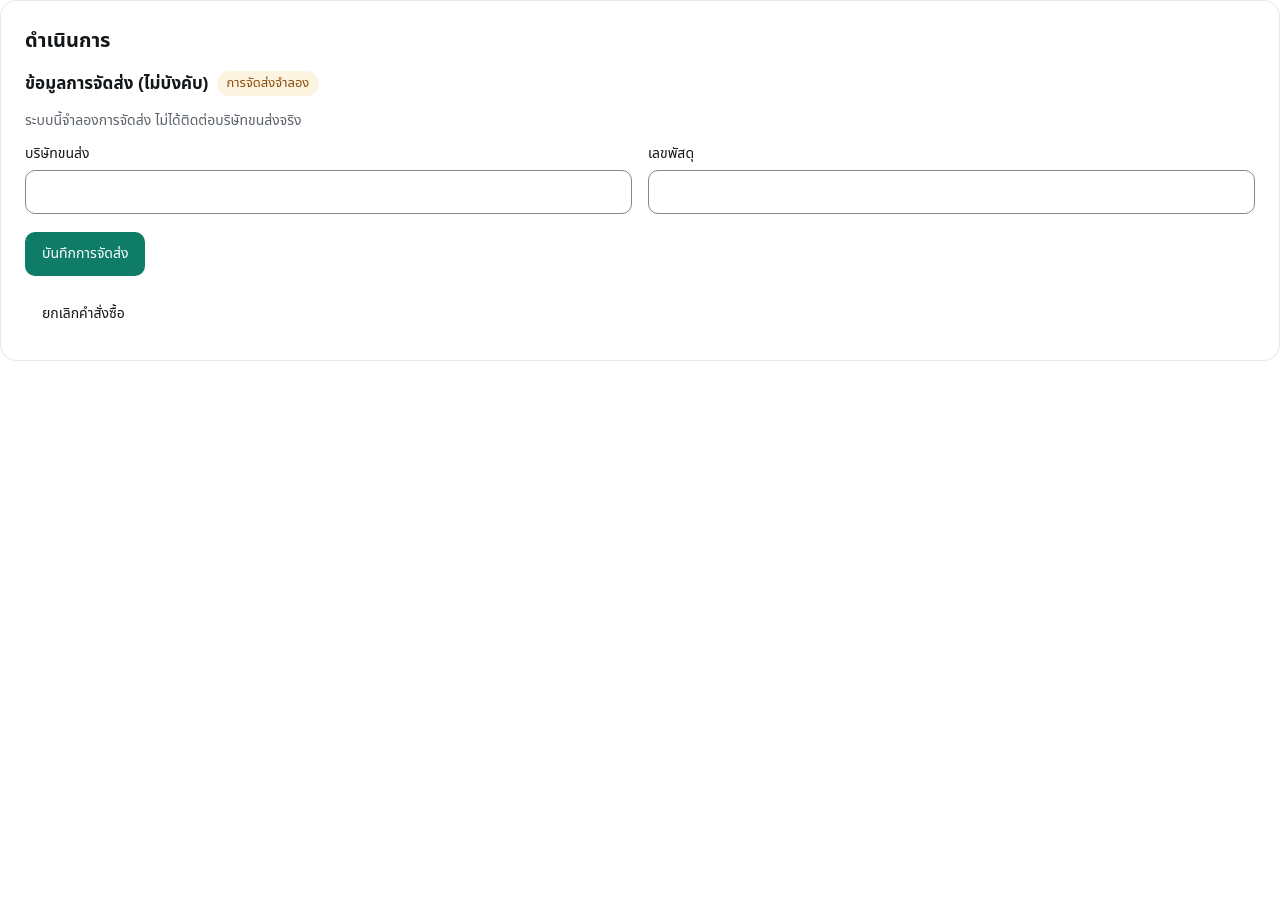
Test case: OrderStatusPanel › asks before cancelling, names the outside-the-system refund, and cancels on confirm
The image size is (1280, 900).
What coordinates should you click on to do the following:
click the button "ยกเลิกคำสั่งซื้อ"
I would click on:
 (83, 314)
Its box is [25,292,142,336].
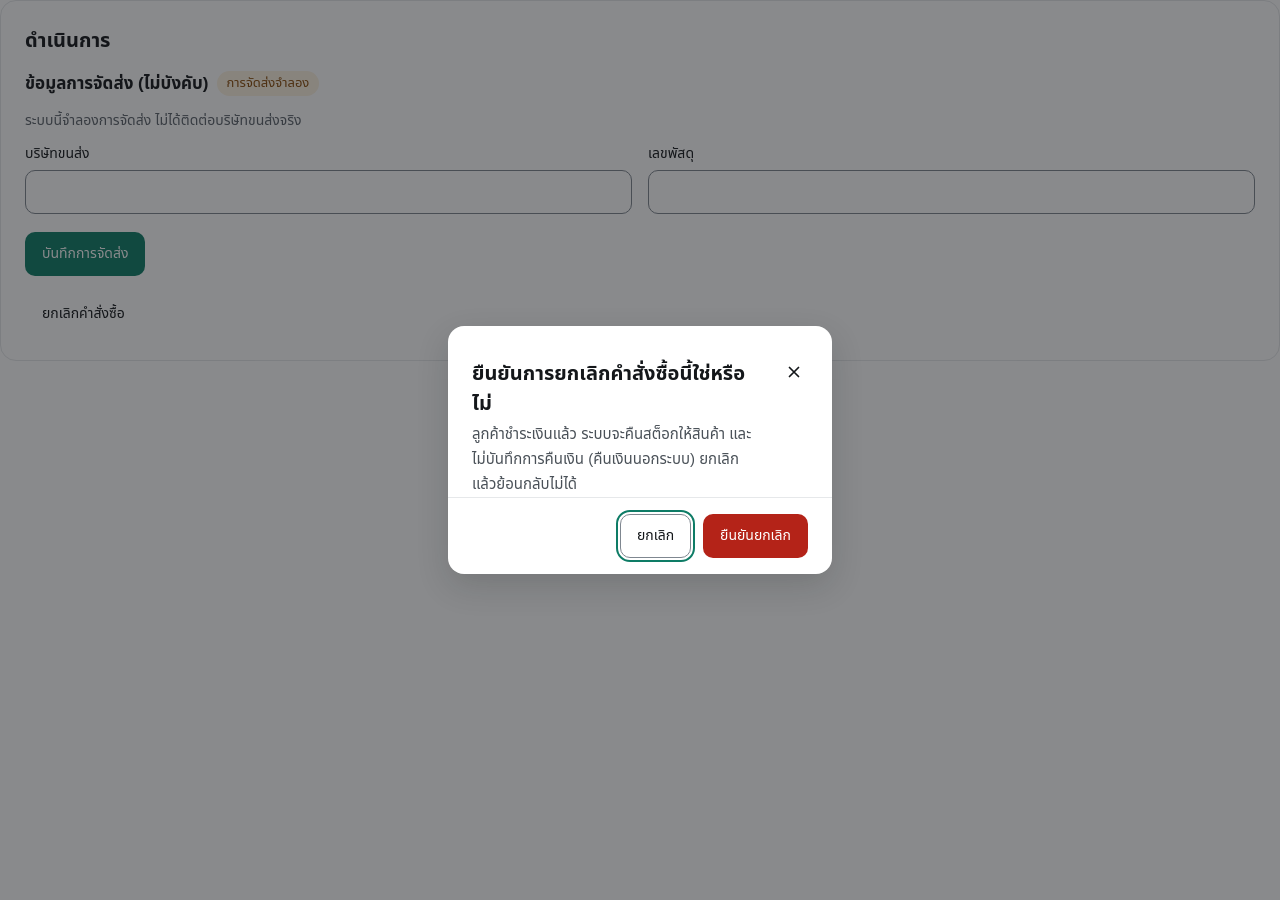
Result: the text "ลูกค้าชำระเงินแล้ว ระบบจะคืนสต็อกให้สินค้า และไม่บันทึกการคืนเงิน (คืนเงินนอกระบบ) ยกเลิกแล้วย้อนกลับไม่ได้" is shown at [472,425,751,492]
What coordinates should you click on to do the following:
click the button "ยืนยันยกเลิก"
I would click on:
 (756, 536)
Its box is [703,514,808,558].
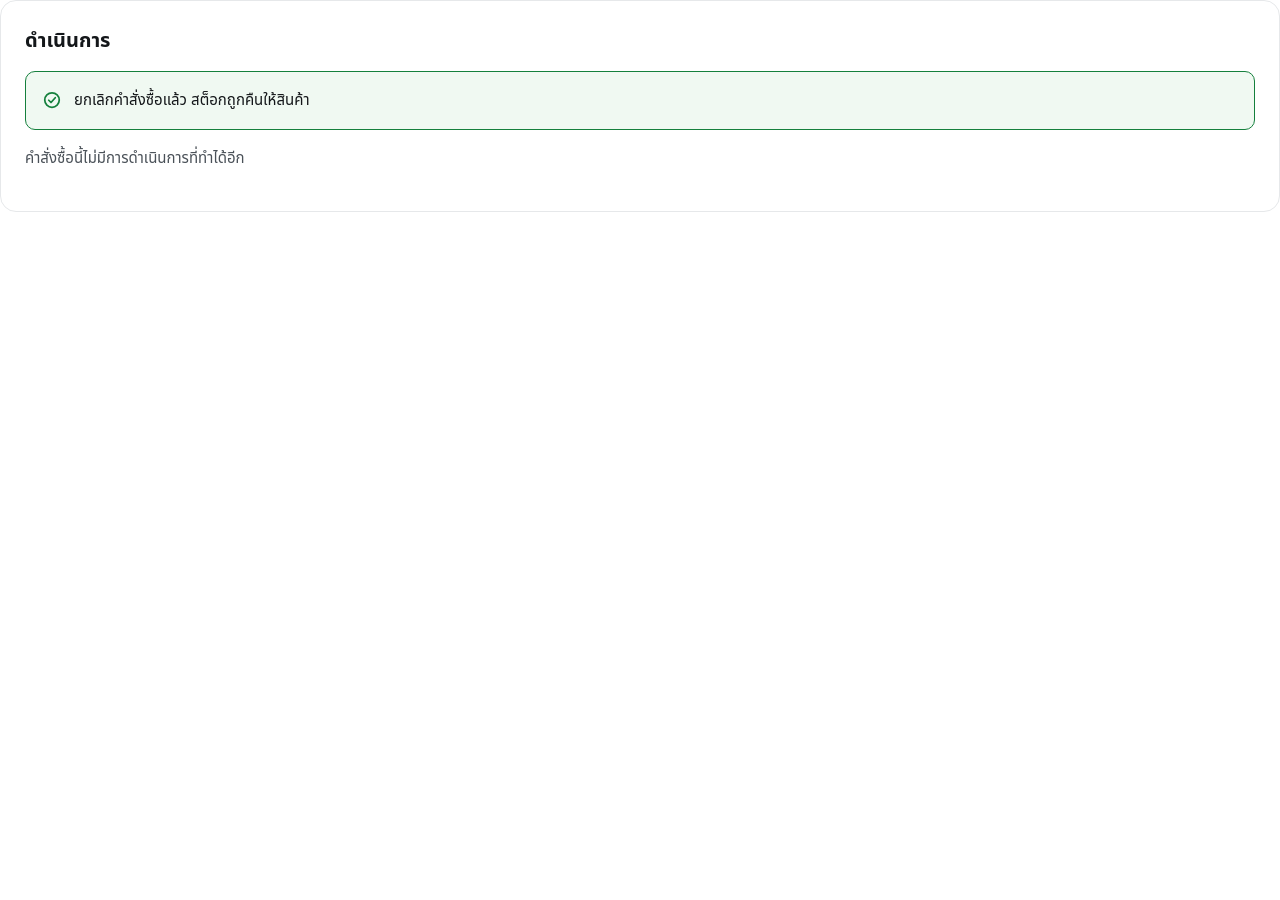
Result: the text "ยกเลิกคำสั่งซื้อแล้ว สต็อกถูกคืนให้สินค้า" is shown at [74,91,310,108]
